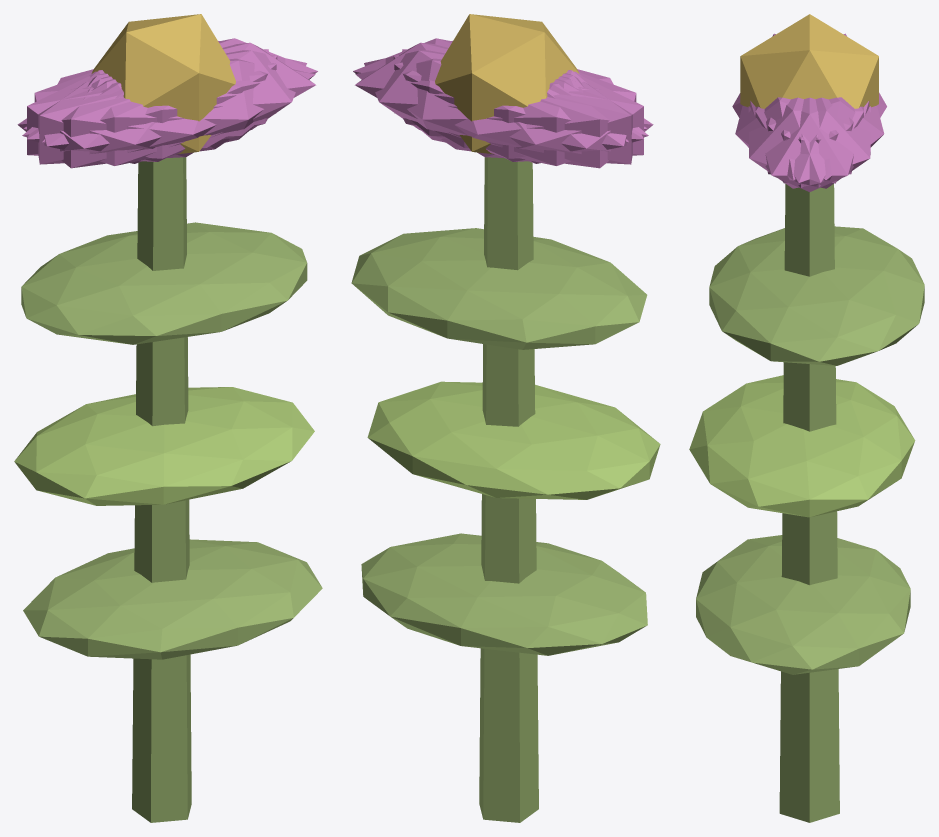
File: gardenia-sootepensis.glb
3 views of the same model, side by side, from view 1: azimuth 30°, elevation 25°; view 2: azimuth 150°, elevation 25°; view 3: azimuth 270°, elevation 25° (orthographic).
Visible parts, largest first — view 1: leaf1, leaf0, leaf2, stem, center, petal1, petal6, petal2, petal5, petal7, petal0, petal4 (+2 smaller); view 2: leaf2, leaf1, leaf0, stem, center, petal8, petal3, petal7, petal4, petal2, petal0, petal5 (+2 smaller); view 3: leaf2, leaf1, leaf0, stem, center, petal0, petal5, petal4, petal8, petal1.
Part boxes in pixels (bbox=[...]): leaf1: bbox=[14, 387, 314, 505]; leaf0: bbox=[23, 539, 322, 659]; leaf2: bbox=[21, 222, 307, 344]; stem: bbox=[132, 157, 191, 822]; center: bbox=[91, 14, 235, 154]; petal1: bbox=[22, 58, 315, 165]; petal6: bbox=[17, 71, 229, 168]; petal2: bbox=[38, 49, 268, 164]; petal5: bbox=[42, 50, 306, 158]; petal7: bbox=[27, 55, 277, 161]; petal0: bbox=[91, 42, 315, 148]; petal4: bbox=[23, 38, 317, 139]; leaf2: bbox=[351, 228, 647, 349]; leaf1: bbox=[367, 381, 660, 499]; leaf0: bbox=[361, 533, 647, 655]; stem: bbox=[479, 157, 538, 822]; center: bbox=[435, 14, 579, 154]; petal8: bbox=[355, 58, 648, 165]; petal3: bbox=[441, 71, 653, 168]; petal7: bbox=[402, 49, 632, 164]; petal4: bbox=[364, 50, 628, 158]; petal2: bbox=[393, 55, 643, 161]; petal0: bbox=[355, 42, 579, 148]; petal5: bbox=[353, 38, 647, 139]; leaf2: bbox=[709, 226, 924, 365]; leaf1: bbox=[689, 375, 915, 517]; leaf0: bbox=[696, 535, 910, 674]; stem: bbox=[779, 183, 839, 822]; center: bbox=[740, 14, 878, 108]; petal0: bbox=[750, 97, 869, 191]; petal5: bbox=[748, 97, 863, 188]; petal4: bbox=[755, 97, 870, 188]; petal8: bbox=[766, 97, 884, 180]; petal1: bbox=[735, 97, 853, 180].
Bounding box in the file's own units: 0.1452 × 0.3787 × 0.1039.
